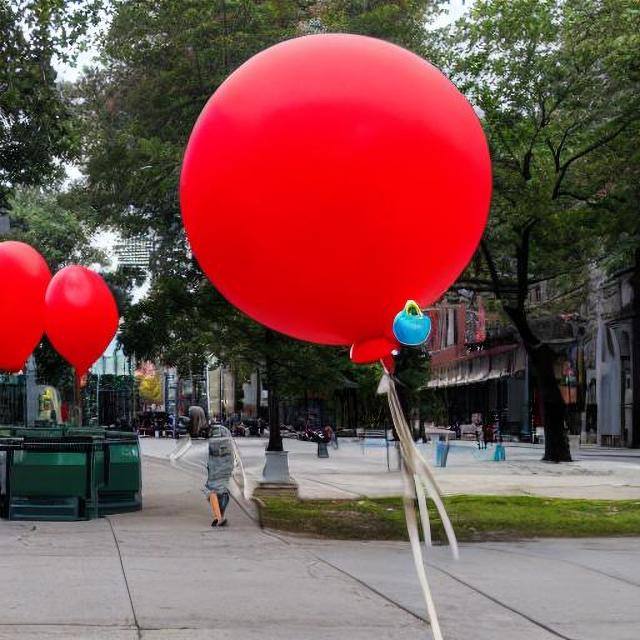balloon: (173, 25, 492, 370), (0, 232, 138, 378)
floating object: (470, 442, 506, 464)
